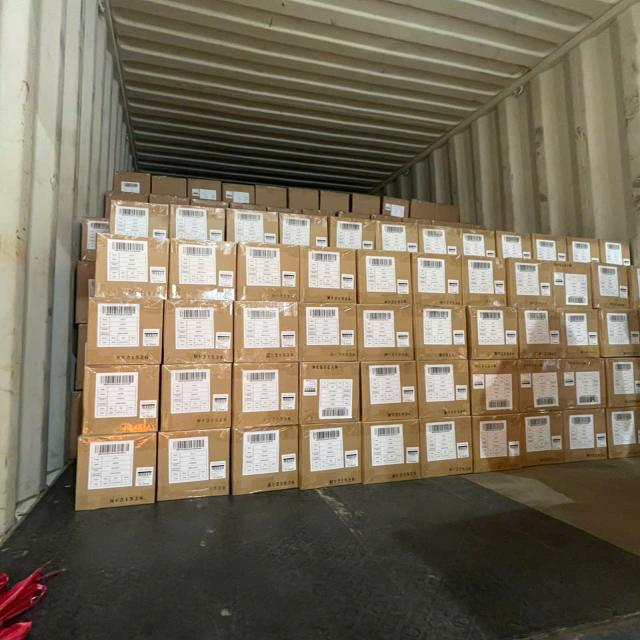Carton: (75, 436, 156, 512), (85, 364, 162, 434), (160, 429, 233, 502), (84, 301, 162, 369), (162, 366, 235, 434), (97, 238, 172, 304), (233, 429, 302, 498), (233, 360, 300, 428), (166, 303, 237, 367), (298, 422, 362, 490), (170, 244, 240, 305), (232, 304, 298, 366), (298, 359, 360, 424), (360, 422, 419, 485), (235, 247, 300, 304), (359, 361, 418, 422), (298, 306, 357, 366), (356, 306, 414, 364), (420, 418, 472, 479), (304, 248, 359, 305), (356, 251, 412, 306), (414, 308, 469, 363), (416, 359, 468, 417), (472, 415, 522, 474), (470, 361, 519, 416), (469, 309, 519, 362), (412, 255, 462, 306), (558, 358, 605, 409), (110, 199, 168, 240), (564, 412, 610, 463), (464, 257, 510, 308), (518, 359, 560, 414), (518, 310, 563, 361), (507, 261, 555, 308), (522, 413, 564, 466), (169, 205, 226, 242), (601, 310, 640, 360), (560, 310, 600, 358), (227, 209, 279, 245), (592, 264, 632, 308), (554, 264, 592, 310), (608, 407, 640, 459), (607, 357, 640, 407), (279, 212, 325, 247), (330, 216, 376, 250), (417, 225, 461, 258), (377, 220, 417, 256), (532, 234, 568, 266), (496, 232, 534, 262), (459, 228, 495, 259), (567, 237, 598, 265), (599, 239, 631, 266), (629, 264, 640, 310)
